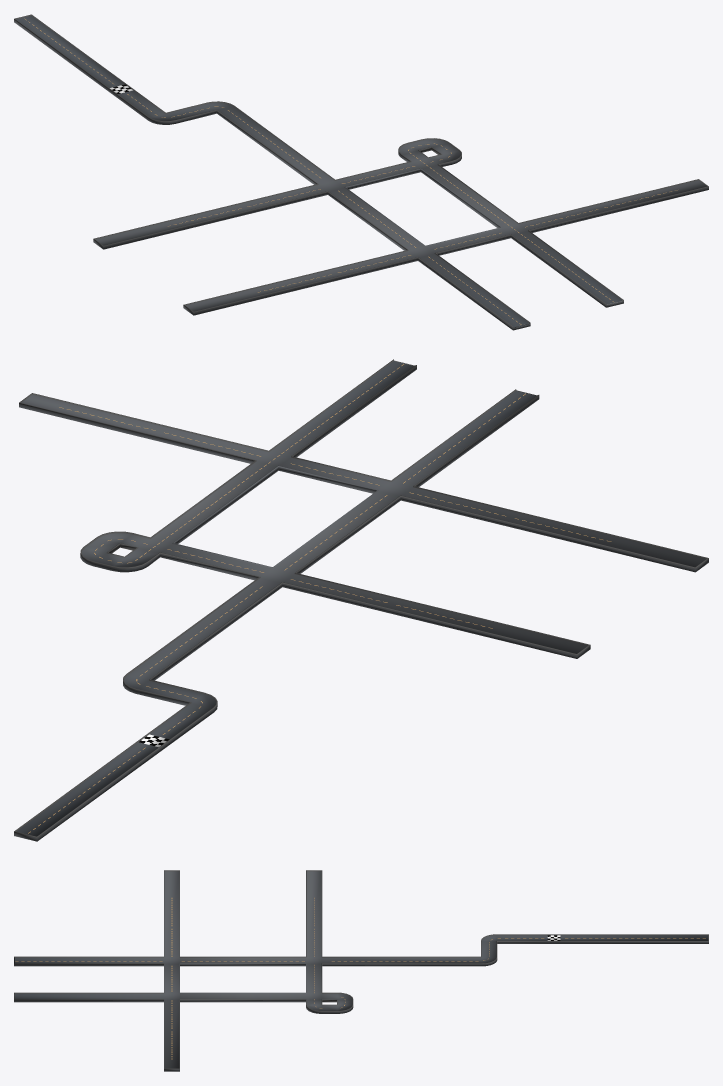
Rendered from Level2Finaly.fbx.
3 views of the same model, one above another, from view 1: azimuth 30°, elevation 25°; view 2: azimuth 150°, elevation 25°; view 3: azimuth 270°, elevation 25° (orthographic). The views are drawn at different scales.
Parts seen in each view (by area): view 1: Plane.012; view 2: Plane.012; view 3: Plane.012.
Part boxes in pixels (x1,y1,x2,y2): Plane.012: (14,14,708,330); Plane.012: (14,359,708,841); Plane.012: (14,870,708,1071).
Bounding box in the file's own units: 9353 × 60.09 × 13854.
